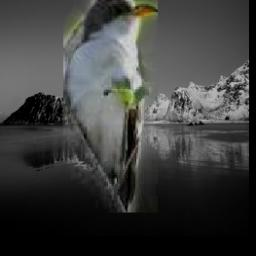Cuckoo: (64, 0, 159, 213)
